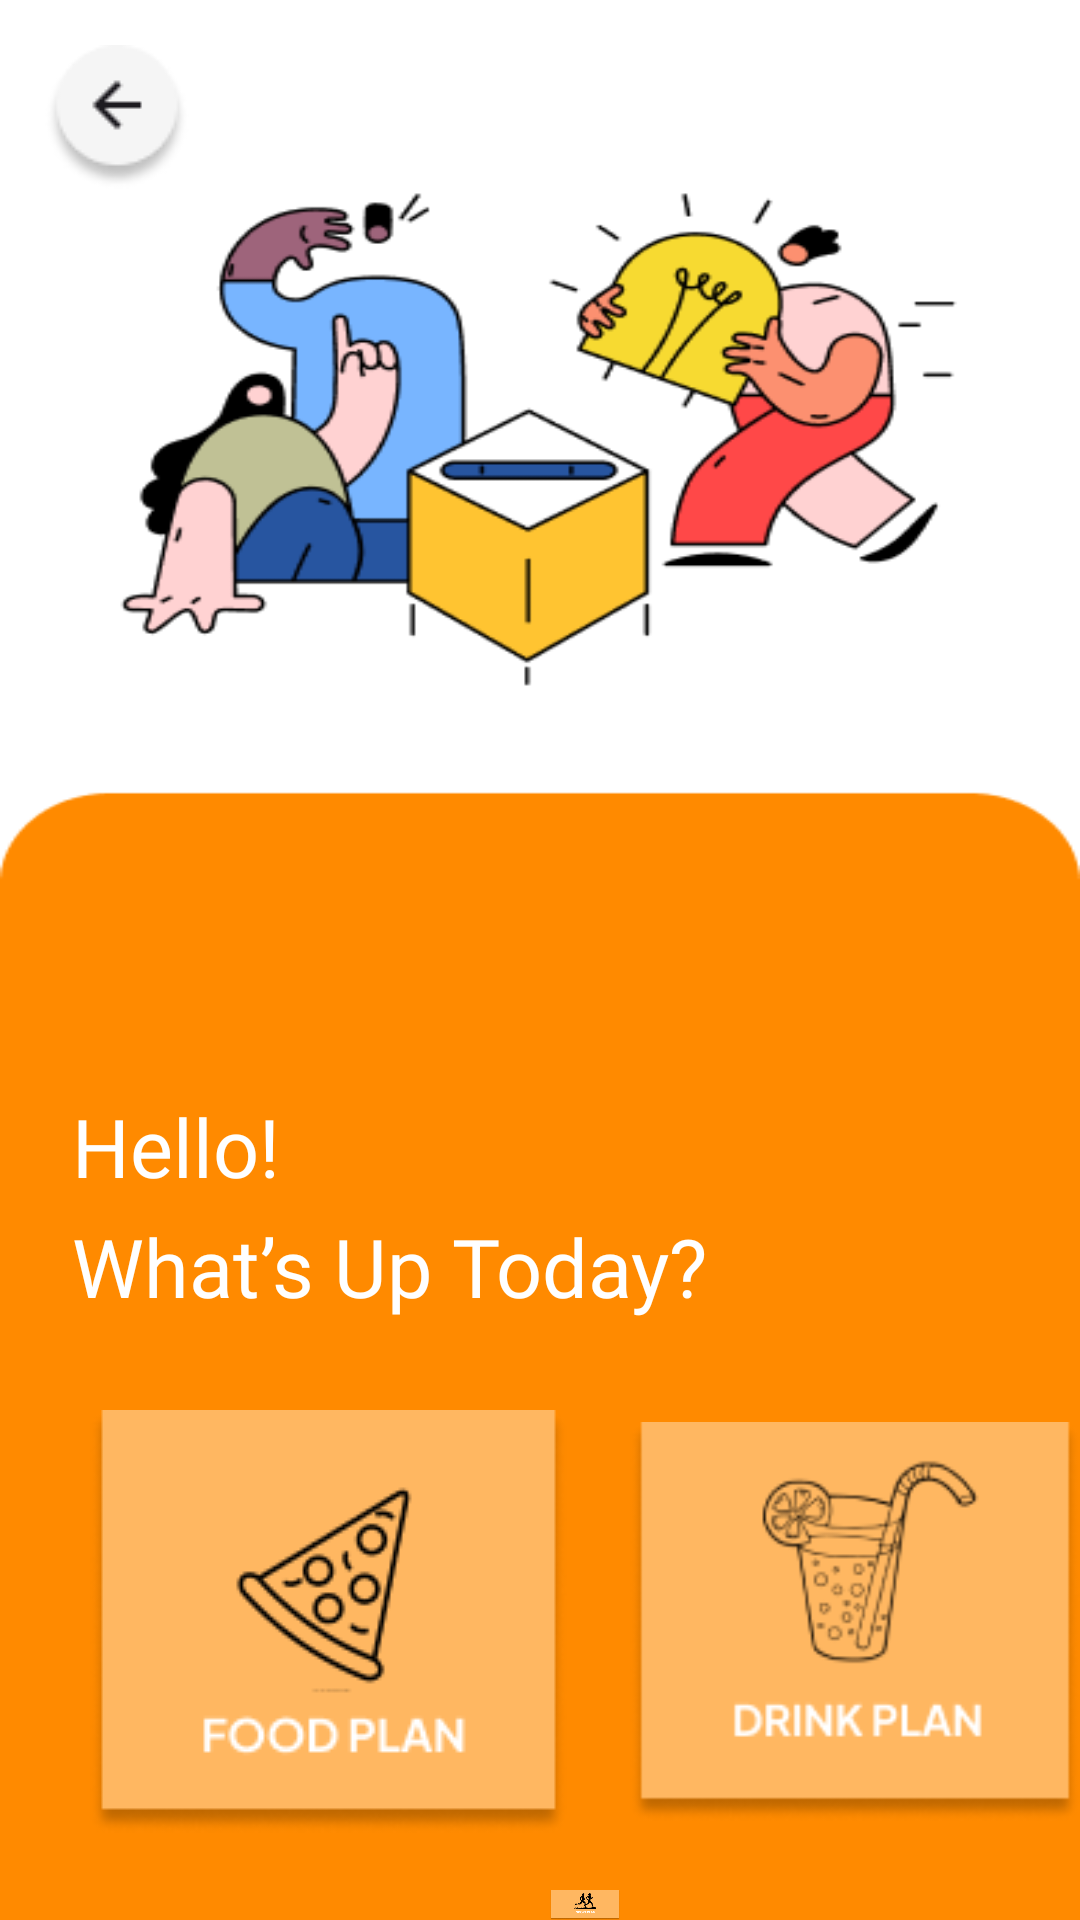

Icon click points for this 1080px×1920px phone screenshot, format (x=x, y=y):
back: (x=117, y=114)
